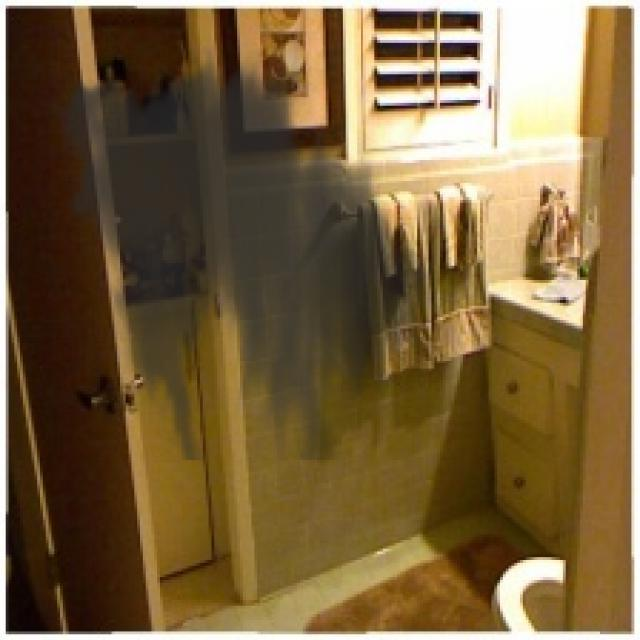Smoke: (40, 40, 440, 460)
